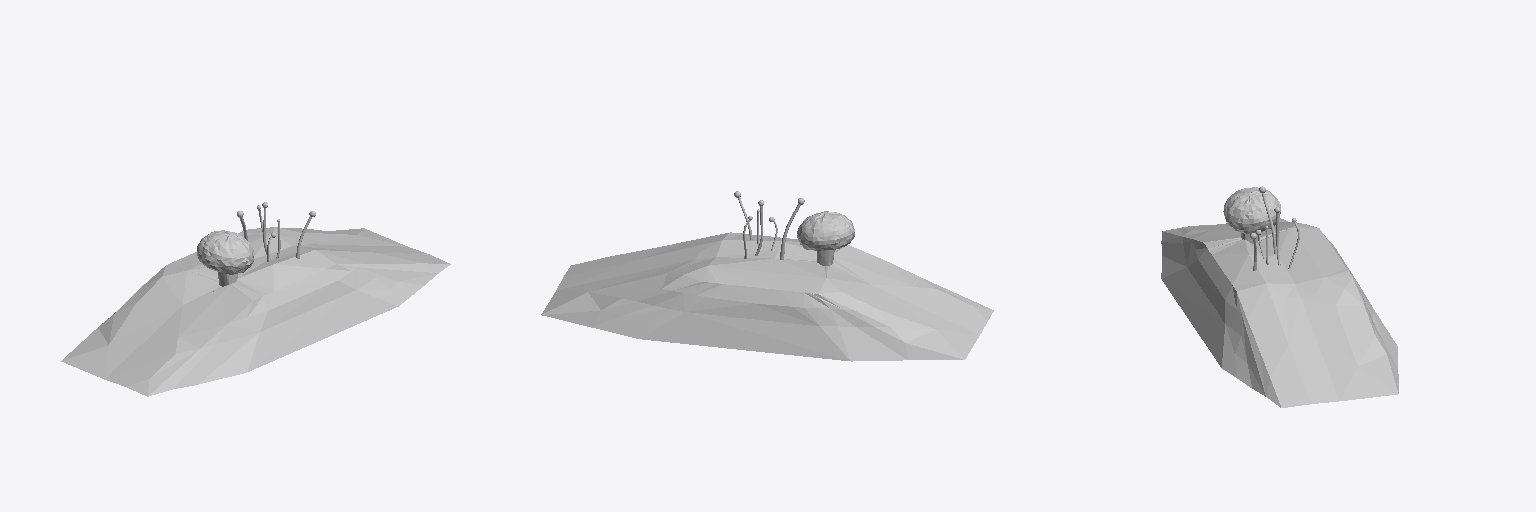
Rendered from mushroom.obj.
The picture shows the model from 3 angles: view 1: azimuth 30°, elevation 25°; view 2: azimuth 150°, elevation 25°; view 3: azimuth 270°, elevation 25°; orthographic projection.
Visible parts, largest first — view 1: Cube; view 2: Cube; view 3: Cube.
Boxes of the visible parts, <box> form: Cube: <box>61,202,450,396</box>; Cube: <box>541,191,993,361</box>; Cube: <box>1161,186,1398,407</box>.
Size of the model in its own units: 3.27 by 0.9144 by 1.71.